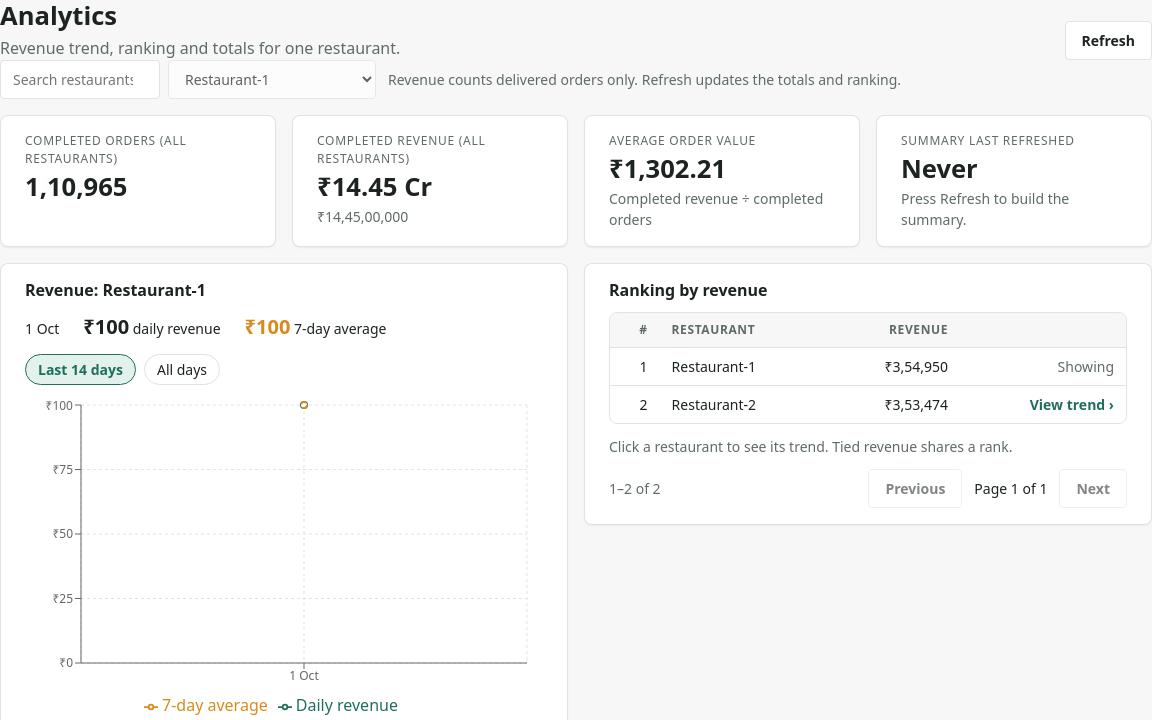
Scenario: AnalyticsPage › shows "Never" until the first refresh, then the new time, and reloads the ranking
Expected: the text "Never" is shown, [901, 151, 978, 186]
Click the button "Refresh": {"x": 1108, "y": 40} [1064, 21, 1151, 60]
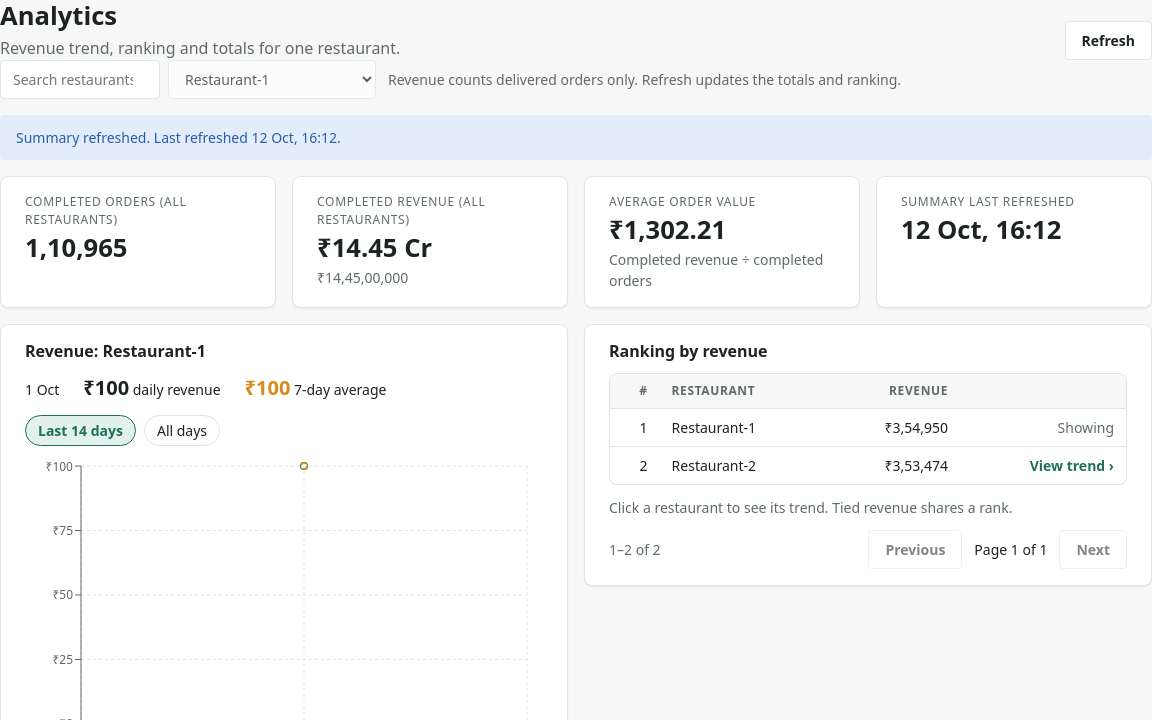
Expected: the text "Summary refreshed. Last refreshed 12 Oct, 16:12." is shown, [0, 115, 1151, 160]
Expected: the text "Never" is gone
